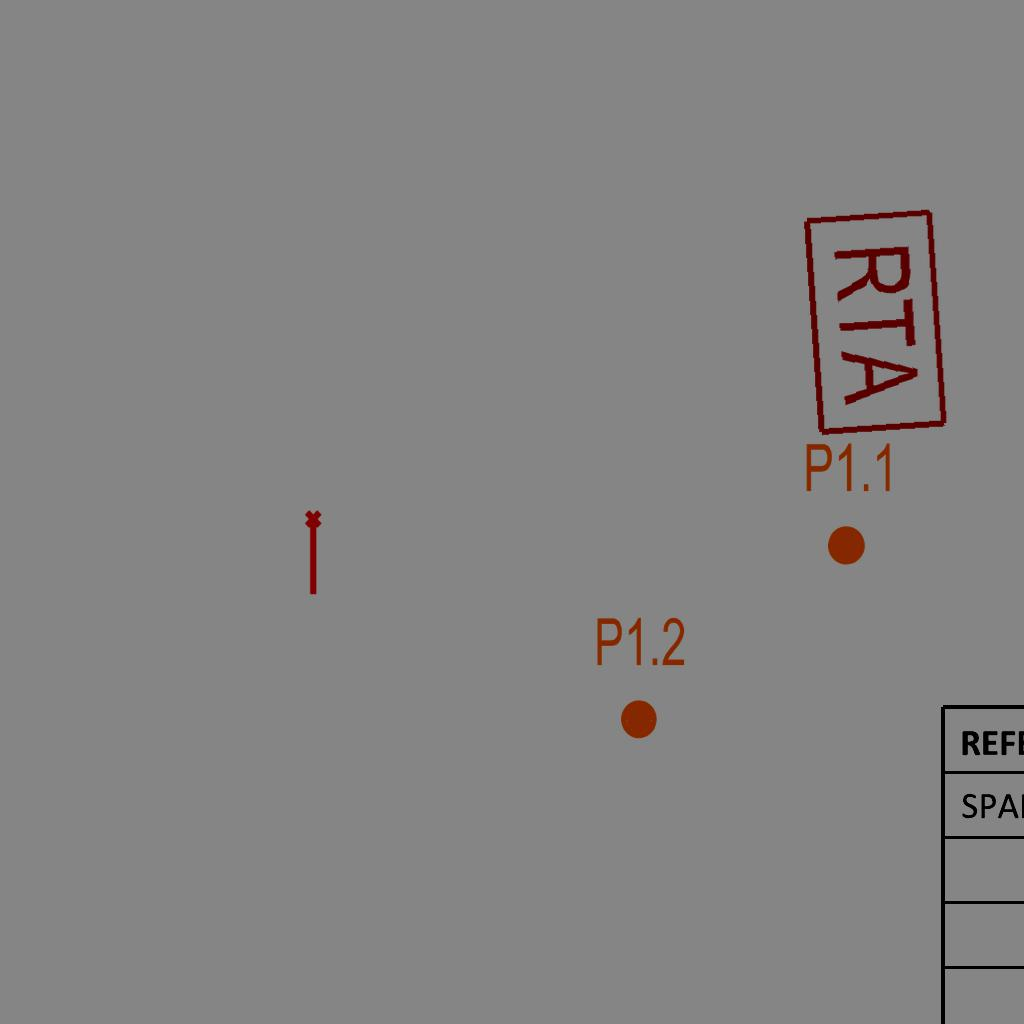ASR_Ansaugoeffnung: (303, 509, 326, 597)
Downlight_LED_Einbauleuchten_Flur: (594, 614, 687, 742)
Downlight_LED_Einbauleuchten_Flur_2: (803, 440, 896, 568)
Ruf-und_Abstelltaster: (798, 201, 952, 439)
